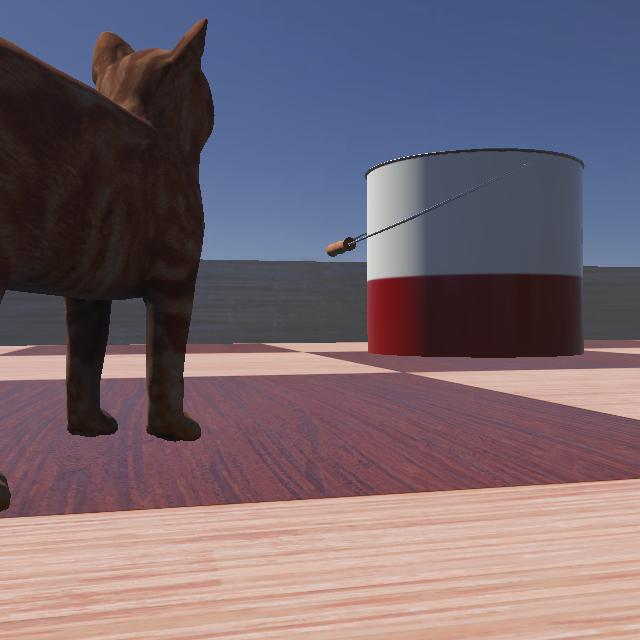cat: (0, 0, 238, 538), (0, 0, 238, 538)
paint-bucket: (326, 138, 638, 362)
